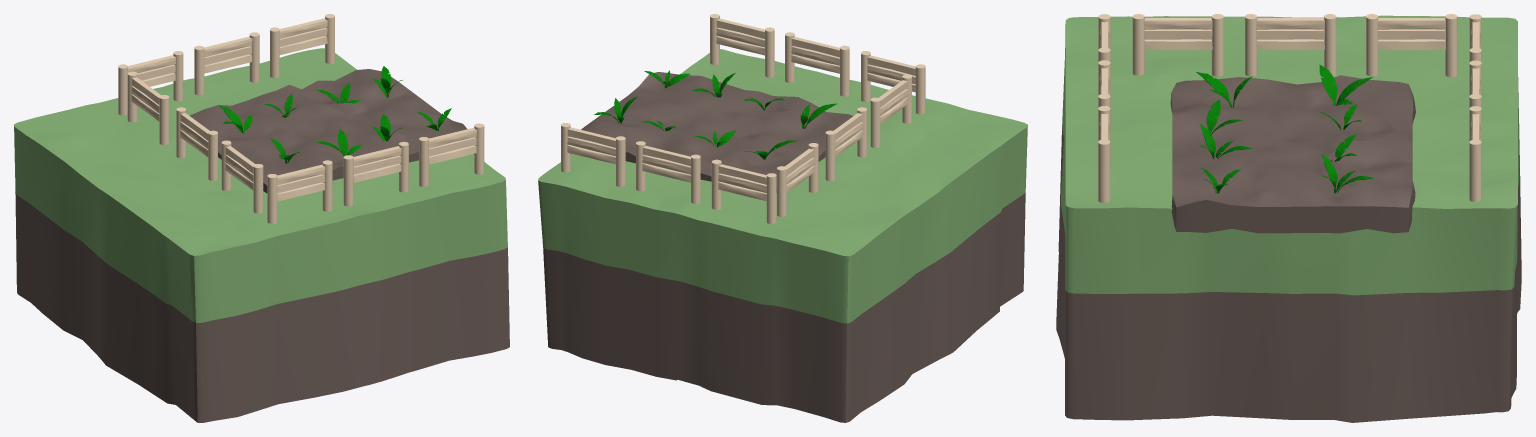
File: farm2_map1.fbx
The picture shows the model from 3 angles, left to right: view 1: azimuth 30°, elevation 25°; view 2: azimuth 150°, elevation 25°; view 3: azimuth 270°, elevation 25°; orthographic projection. The views are drawn at different scales.
Parts seen in each view (by area): view 1: pasted__pgroundddd, island3:ppPlane6, pasted__ppCylinder14, pasted__ppCylinder13, pasted__ppCylinder10, pasted__ppCylinder12, pasted__ppCylinder11, pasted__ppCylinder9, pasted__ppCylinder7, pasted__ppCylinder16, pasted__ppCylinder6; view 2: pasted__pgroundddd, island3:ppPlane6, pasted__ppCylinder9, pasted__ppCylinder13, pasted__ppCylinder12, pasted__ppCylinder11, pasted__ppCylinder10, pasted__ppCylinder14, pasted__ppCylinder6, pasted__ppCylinder7, pasted__ppCylinder16; view 3: pasted__pgroundddd, island3:ppPlane6, pasted__ppCylinder7, pasted__ppCylinder16, pasted__ppCylinder6, pasted__ppCylinder12, pasted__ppCylinder11, pasted__veg9, pasted__ppCylinder9, pasted__ppCylinder14, pasted__ppCylinder10, pasted__ppCylinder13 (+3 smaller).
Part boxes in pixels (x1,y1,x2,y2): pasted__pgroundddd: (14,48,509,422); island3:ppPlane6: (189,69,474,192); pasted__ppCylinder14: (267,160,332,223); pasted__ppCylinder13: (343,141,408,206); pasted__ppCylinder10: (194,32,259,95); pasted__ppCylinder12: (419,123,484,186); pasted__ppCylinder11: (270,14,334,78); pasted__ppCylinder9: (118,51,183,115); pasted__ppCylinder7: (127,71,169,144); pasted__ppCylinder16: (221,140,263,213); pasted__ppCylinder6: (176,107,217,180); pasted__pgroundddd: (538,49,1027,422); island3:ppPlane6: (570,72,853,192); pasted__ppCylinder9: (711,159,776,224); pasted__ppCylinder13: (785,32,849,96); pasted__ppCylinder12: (710,14,774,77); pasted__ppCylinder11: (561,123,625,186); pasted__ppCylinder10: (636,141,700,203); pasted__ppCylinder14: (861,51,925,114); pasted__ppCylinder6: (825,107,866,181); pasted__ppCylinder7: (777,143,818,216); pasted__ppCylinder16: (870,74,911,147); pasted__pgroundddd: (1056,15,1521,422); island3:ppPlane6: (1170,75,1415,233); pasted__ppCylinder7: (1366,14,1457,77); pasted__ppCylinder16: (1132,14,1223,76); pasted__ppCylinder6: (1245,14,1336,76); pasted__ppCylinder12: (1098,106,1110,202); pasted__ppCylinder11: (1469,106,1481,201); pasted__veg9: (1319,64,1373,105); pasted__ppCylinder9: (1469,14,1481,75); pasted__ppCylinder14: (1098,14,1110,62); pasted__ppCylinder10: (1469,60,1481,107); pasted__ppCylinder13: (1098,60,1110,107).
Size of the model in its own units: 20.78 by 12.89 by 20.34.
